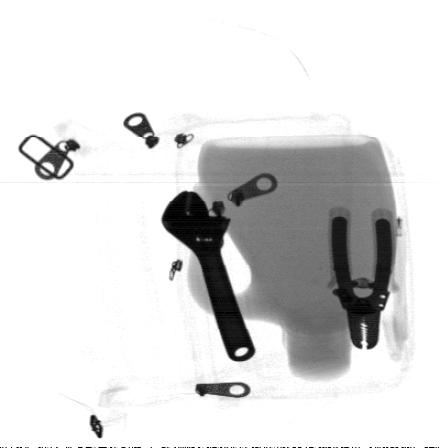Pliers: (330, 216, 393, 350)
Wrench: (161, 190, 257, 359)
